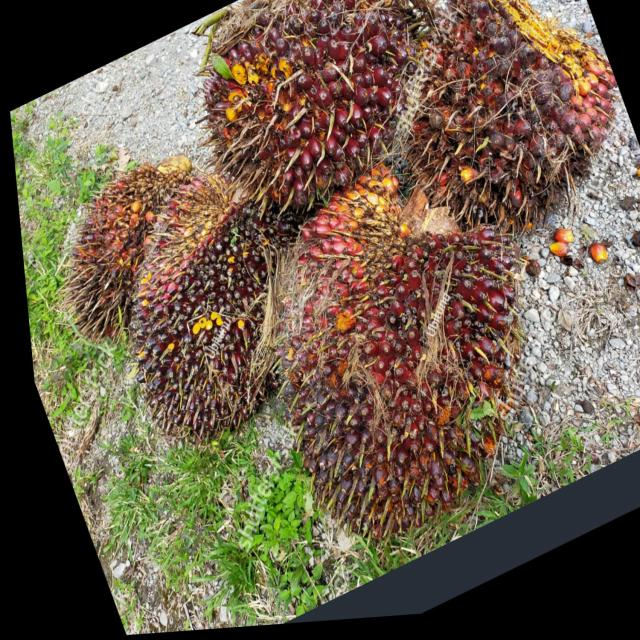Ripefruit: (226, 202, 584, 583), (71, 154, 325, 468), (170, 0, 468, 249), (359, 0, 639, 264), (16, 139, 232, 351), (276, 160, 426, 304)
